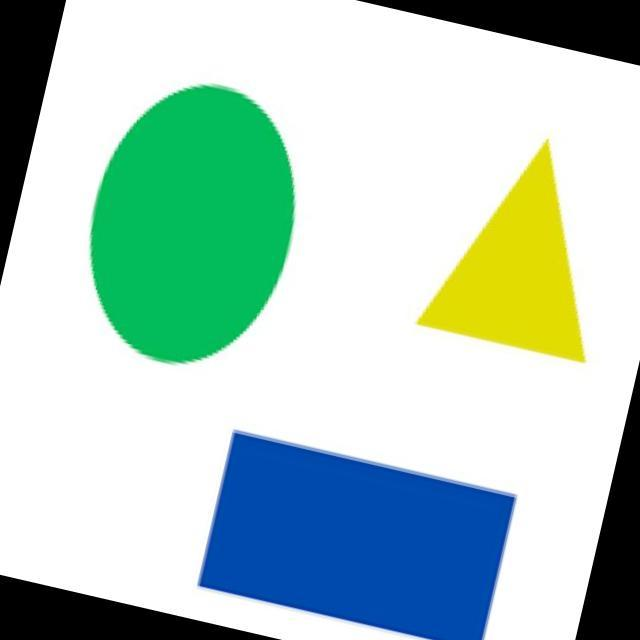circle: (63, 39, 308, 378)
square: (182, 399, 532, 640)
triangle: (396, 90, 614, 379)
